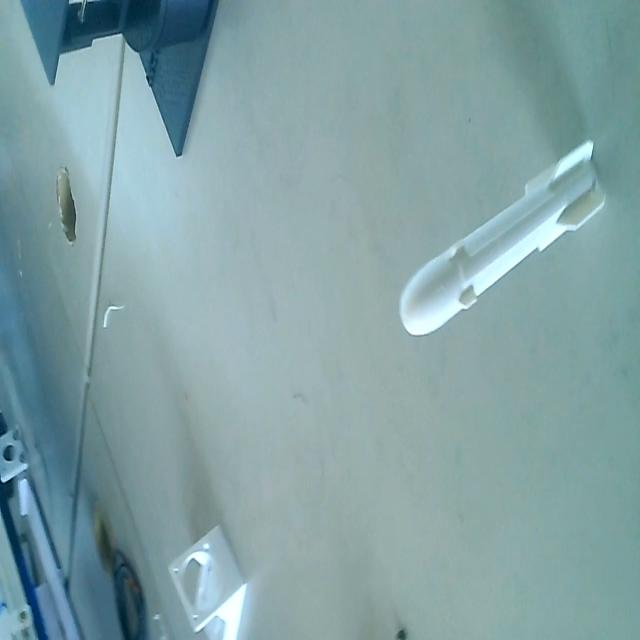Rocket: (398, 137, 608, 340)
